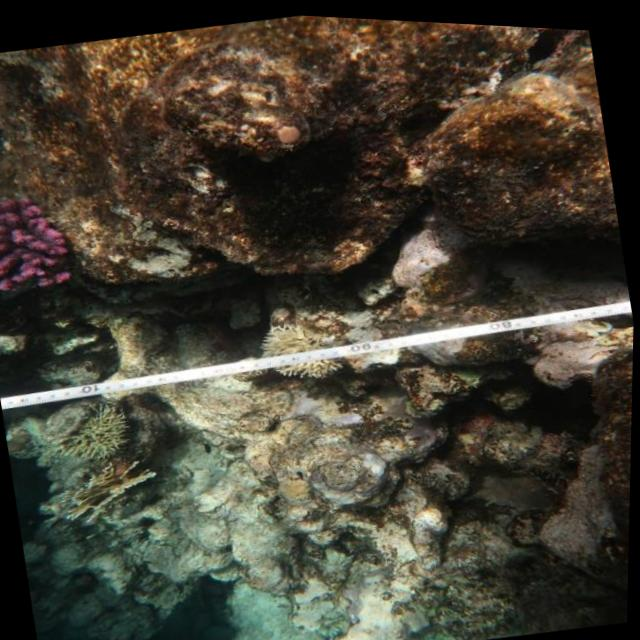Healthy Coral: (0, 177, 84, 315)
